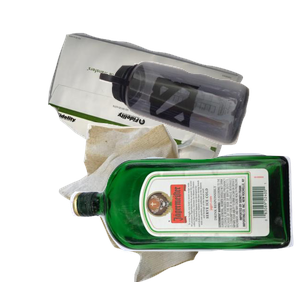glass: (67, 150, 300, 300)
paper: (45, 30, 281, 195)
plastic: (97, 59, 300, 197)
trash: (56, 120, 247, 300)
